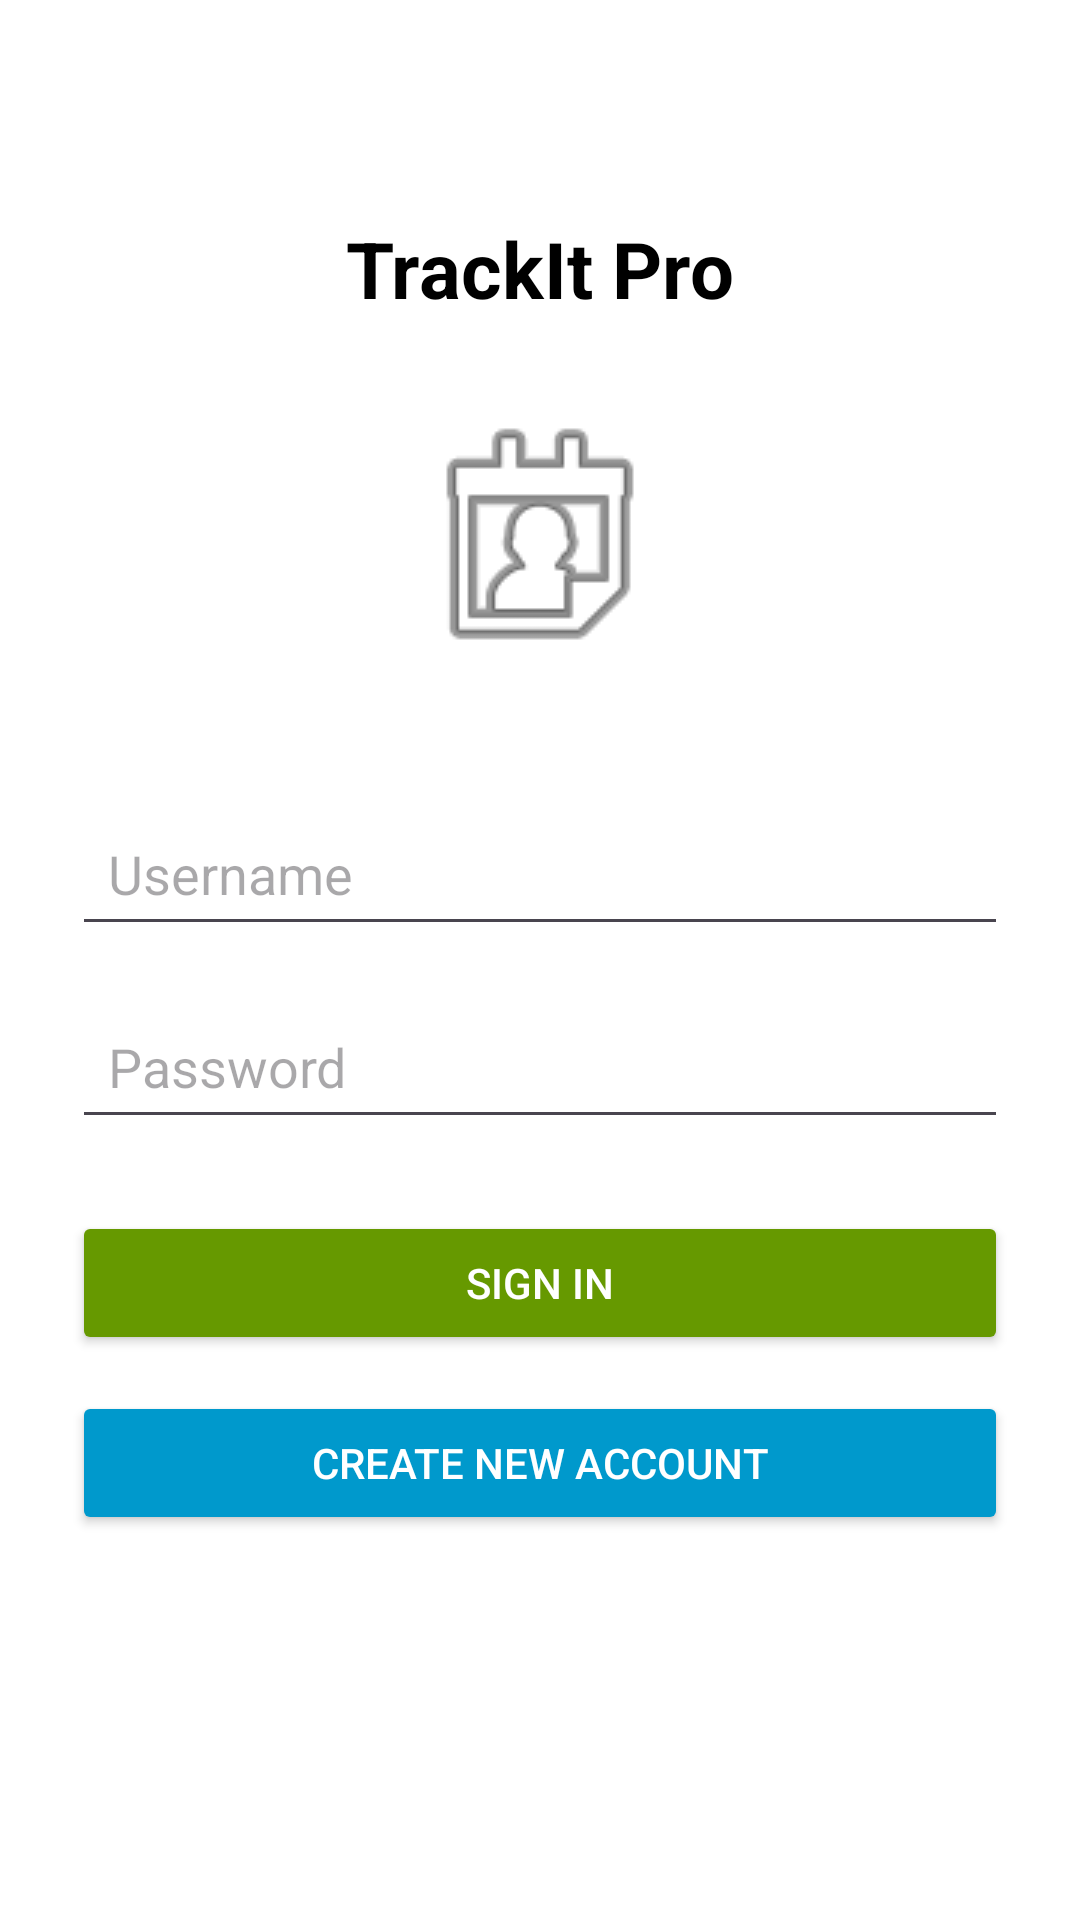

Where icons sit on this 1080 x 1920 app screen, as (x1, y1, x2, y2):
calendar: (446, 428, 634, 640)
